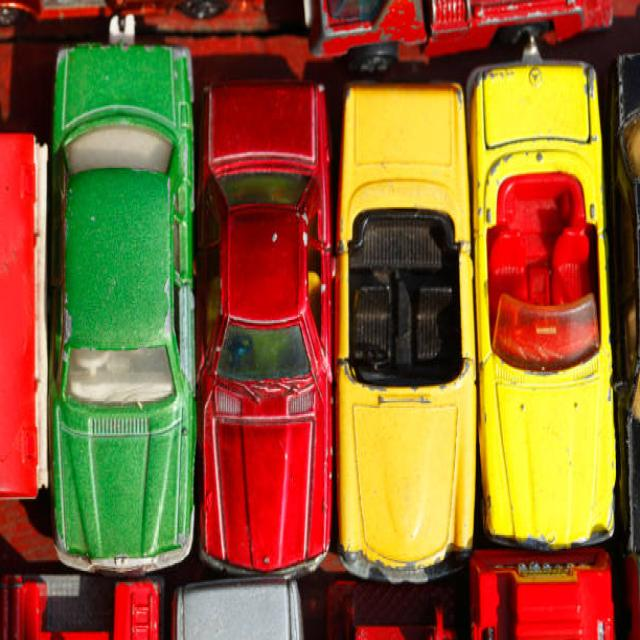Car: (49, 44, 196, 573), (472, 63, 616, 546), (337, 88, 477, 574), (199, 85, 335, 571)
